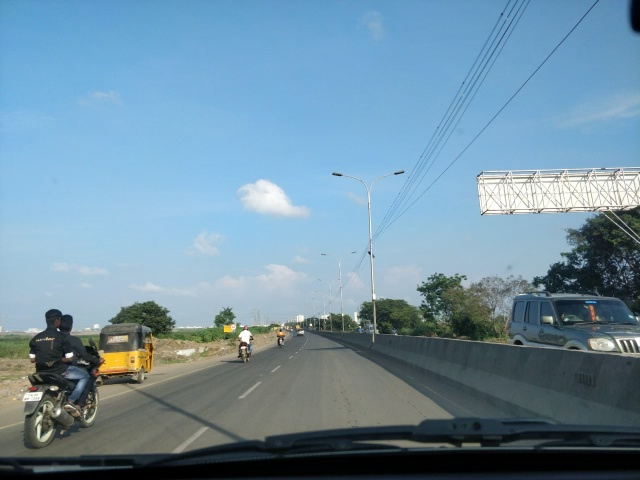auto: (93, 322, 158, 383)
car: (510, 293, 640, 400), (296, 327, 307, 336)
motorbike: (23, 309, 107, 453), (235, 322, 259, 364), (275, 325, 289, 350)
